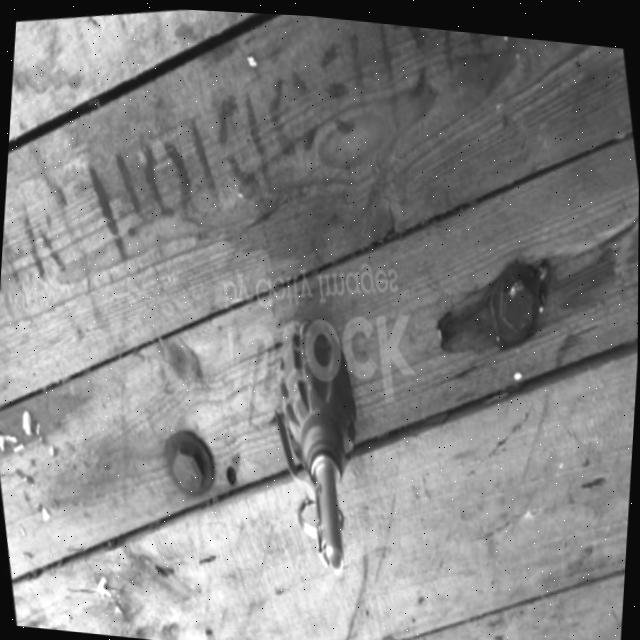grenade: (250, 299, 396, 584)
